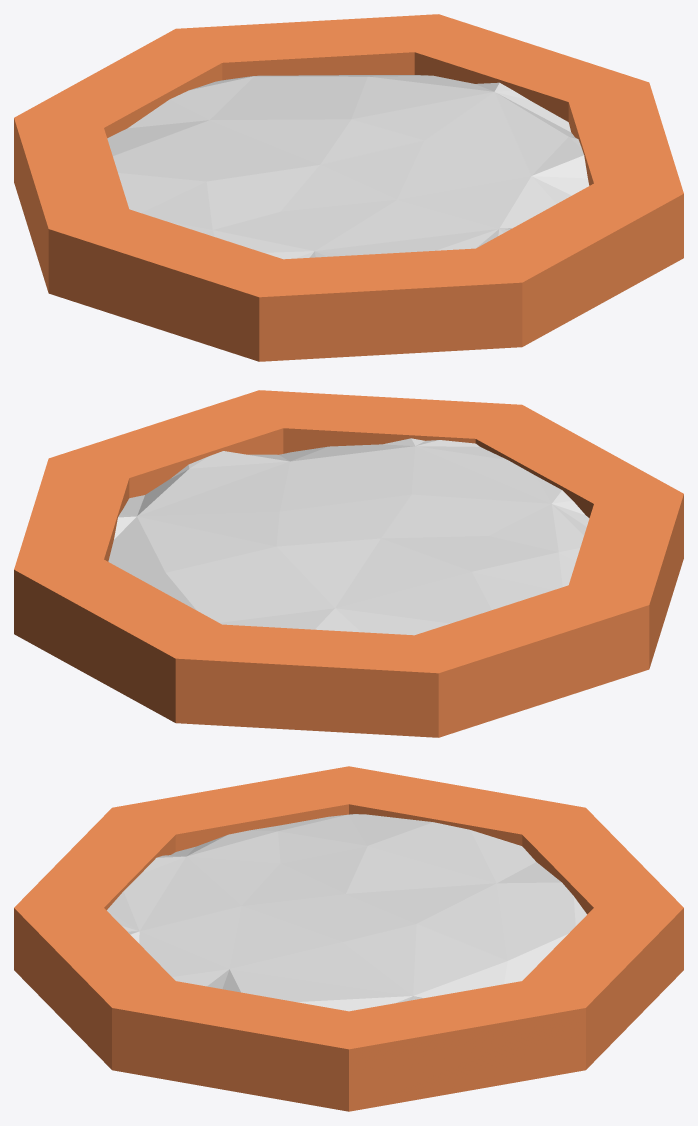
File: GemCoin.fbx
The picture shows the model from 3 angles, top to bottom: view 1: azimuth 30°, elevation 25°; view 2: azimuth 150°, elevation 25°; view 3: azimuth 270°, elevation 25°; orthographic projection. The views are drawn at different scales.
Visible parts, largest first — view 1: Cylinder.019, Cylinder.015; view 2: Cylinder.019, Cylinder.015; view 3: Cylinder.019, Cylinder.015.
Boxes of the visible parts, x1,y1,x2,y2 form: Cylinder.019: (14,14,683,361); Cylinder.015: (107,75,589,259); Cylinder.019: (14,390,683,737); Cylinder.015: (108,438,589,635); Cylinder.019: (14,766,683,1111); Cylinder.015: (107,814,586,1011).
Size of the model in its own units: 200 by 21.05 by 200.
